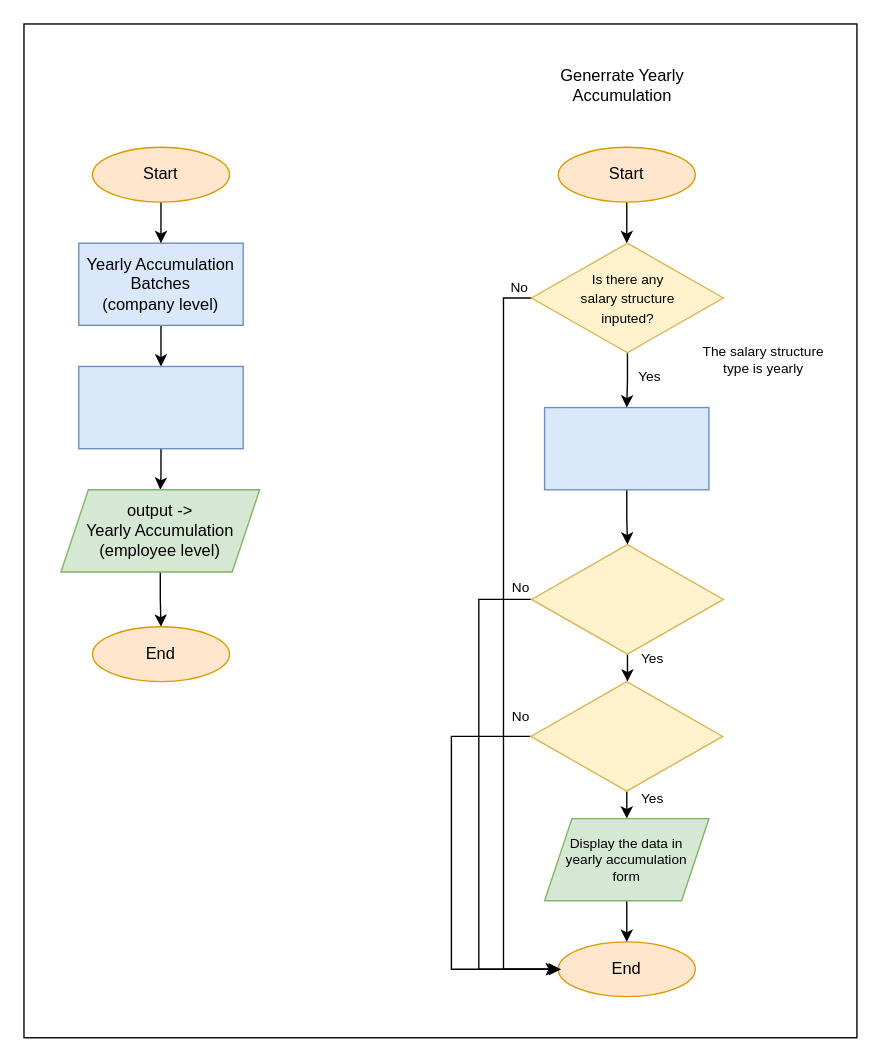
Image size: 881x1062. Some labels were removed from this diagram. The centre of each missing label's shape, as x and y in pixels:
"Contract still running & Employee work period >= 12?" belongs at point (626, 735).
"Generate Yearly Accumulation" belongs at point (160, 407).
"Get the salary rules as yearly accumulation components" belongs at point (626, 448).
"The Employees of the company != null?" belongs at point (626, 598).
